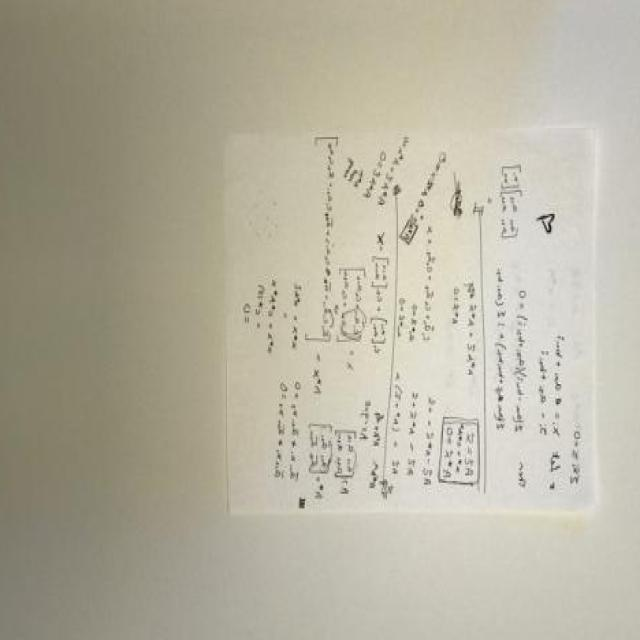kertas: (226, 125, 605, 513)
